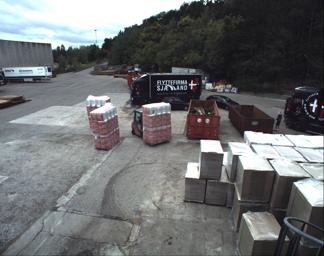rockwool_batts: (88, 105, 119, 148), (142, 101, 171, 144), (86, 93, 109, 114)
